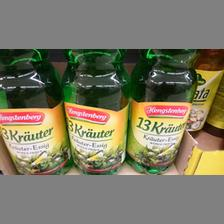Essig: (0, 49, 70, 173), (61, 49, 131, 173), (128, 47, 196, 173)
